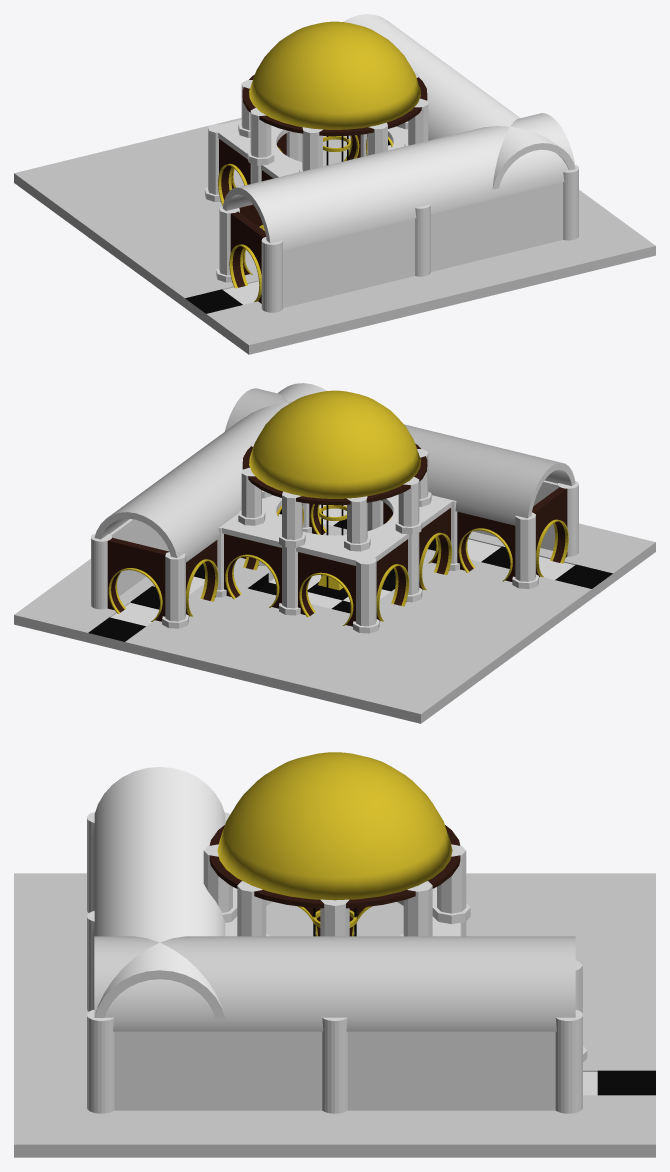
Rendered from samplebuilding.dae.
3 views of the same model, one above another, from view 1: azimuth 30°, elevation 25°; view 2: azimuth 150°, elevation 25°; view 3: azimuth 270°, elevation 25° (orthographic). The views are drawn at different scales.
Parts seen in each view (by area): view 1: Cube_007, Cylinder_043, Cube_006, Sphere_001, Cylinder_042, Sphere, Cube_015, Cylinder_014, Circle_001, Cube_012, Cylinder_012, Cylinder_013 (+6 smaller); view 2: Cube_007, Sphere_001, Cylinder_042, Cylinder_043, Sphere, Cube_016, Cube_009, Cube_010, Cube_015, Cube_008, Cube_012, Cube_011 (+15 smaller); view 3: Cube_007, Cylinder_042, Cube_005, Sphere_001, Cylinder_043, Cylinder_008, Cylinder_012, Cylinder_009, Circle_001, Cylinder_032, Cylinder_038, Cylinder_029 (+5 smaller).
Part boxes in pixels (left/top/right/bottom): Cube_007: left=14, top=117, right=655, bottom=354; Cylinder_043: left=222, top=113, right=575, bottom=250; Cube_006: left=283, top=182, right=562, bottom=307; Sphere_001: left=249, top=21, right=420, bottom=129; Cylinder_042: left=343, top=14, right=575, bottom=189; Sphere: left=218, top=119, right=407, bottom=178; Cube_015: left=229, top=211, right=265, bottom=303; Cylinder_014: left=261, top=237, right=282, bottom=312; Circle_001: left=242, top=74, right=427, bottom=136; Cube_012: left=218, top=139, right=250, bottom=205; Cylinder_012: left=563, top=164, right=578, bottom=240; Cylinder_013: left=415, top=204, right=430, bottom=276; Cube_007: left=14, top=504, right=655, bottom=723; Sphere_001: left=249, top=390, right=420, bottom=498; Cylinder_042: left=94, top=383, right=326, bottom=562; Cylinder_043: left=225, top=388, right=575, bottom=525; Sphere: left=222, top=494, right=451, bottom=565; Cube_016: left=107, top=537, right=169, bottom=621; Cube_009: left=298, top=552, right=355, bottom=626; Cube_010: left=224, top=534, right=281, bottom=608; Cube_015: left=532, top=487, right=568, bottom=577; Cube_008: left=457, top=511, right=515, bottom=581; Cube_012: left=376, top=539, right=409, bottom=621; Cube_011: left=419, top=508, right=451, bottom=590; Cube_007: left=14, top=873, right=655, bottom=1157; Cylinder_042: left=94, top=936, right=575, bottom=1031; Cube_005: left=114, top=1031, right=555, bottom=1110; Sphere_001: left=217, top=752, right=452, bottom=900; Cylinder_043: left=92, top=767, right=225, bottom=1018; Cylinder_008: left=555, top=1009, right=582, bottom=1113; Cylinder_012: left=87, top=1009, right=114, bottom=1113; Cylinder_009: left=322, top=1017, right=347, bottom=1113; Circle_001: left=209, top=825, right=460, bottom=908; Cylinder_032: left=403, top=881, right=432, bottom=936; Cylinder_038: left=237, top=881, right=266, bottom=936; Cylinder_029: left=437, top=844, right=466, bottom=913.
Bounding box in the file's own units: 22 × 22 × 10.2.
